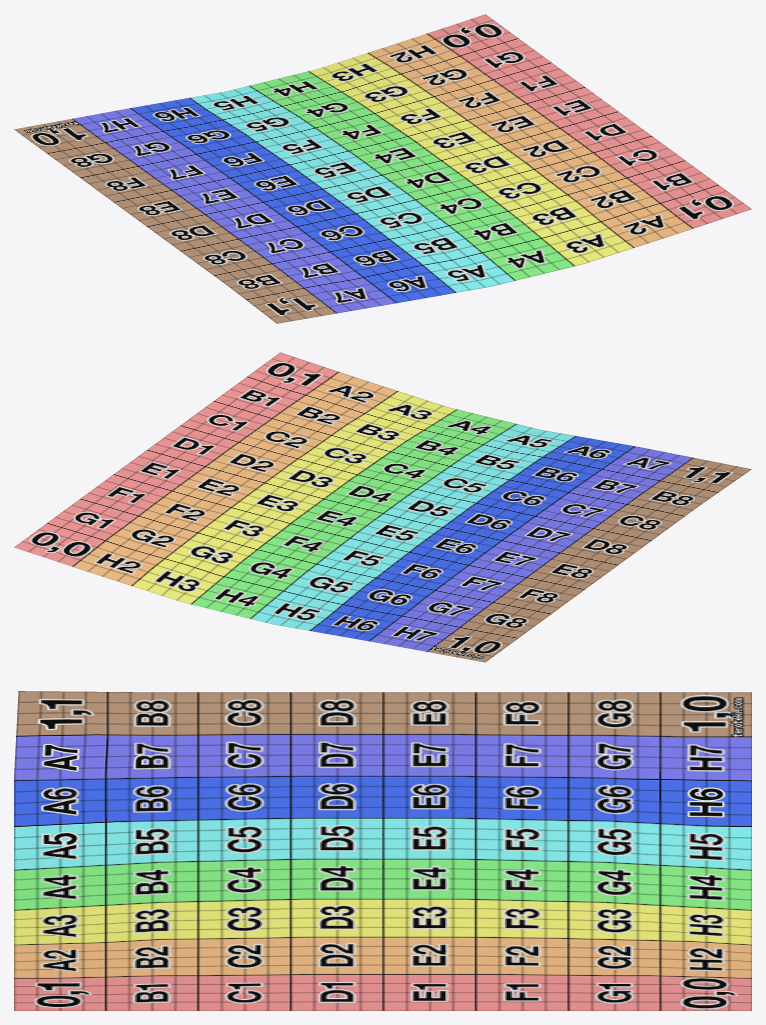
Rendered from grotte_startGround.fbx.
The picture shows the model from 3 angles, top to bottom: view 1: azimuth 30°, elevation 25°; view 2: azimuth 150°, elevation 25°; view 3: azimuth 270°, elevation 25°; orthographic projection. The views are drawn at different scales.
Parts seen in each view (by area): view 1: grotte_startGround; view 2: grotte_startGround; view 3: grotte_startGround.
Boxes of the visible parts, x1=… form: grotte_startGround: x1=14, y1=14, x2=751, y2=323; grotte_startGround: x1=14, y1=352, x2=751, y2=662; grotte_startGround: x1=14, y1=691, x2=751, y2=1010.
Bounding box in the file's own units: 862 × 24.09 × 840.
1 material, 1 textured.
